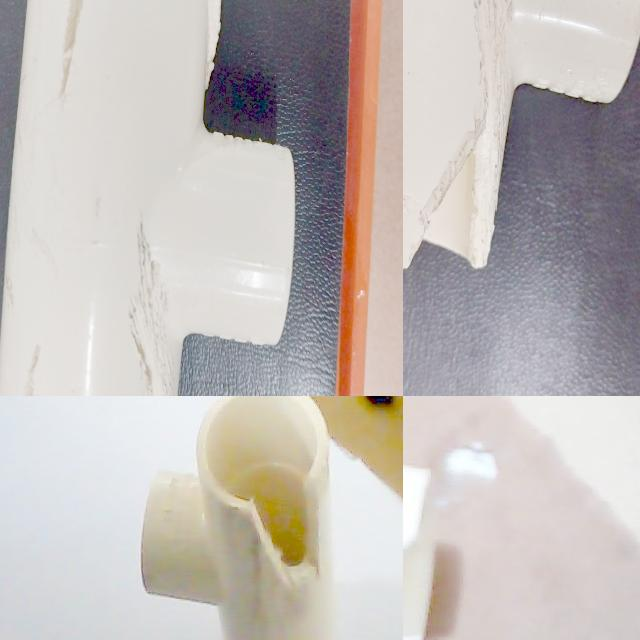Defective: (403, 144, 505, 250), (229, 257, 358, 337), (231, 465, 327, 571), (250, 484, 334, 594), (403, 126, 496, 225), (0, 326, 138, 391), (403, 292, 485, 393), (211, 245, 349, 292)
T Joint: (0, 69, 352, 396), (141, 396, 340, 640), (403, 0, 517, 396)
